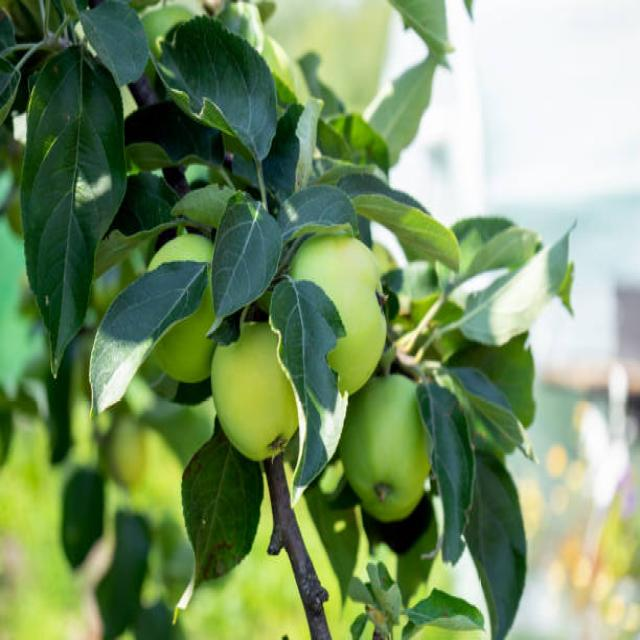Unripe: (338, 373, 435, 522)
